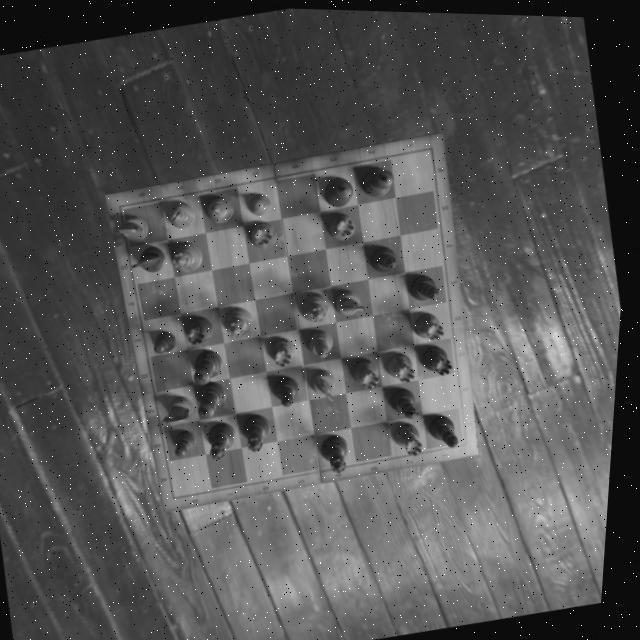chess-table-corners: (167, 476, 199, 512), (110, 192, 140, 225), (414, 136, 446, 166), (456, 429, 480, 452)
